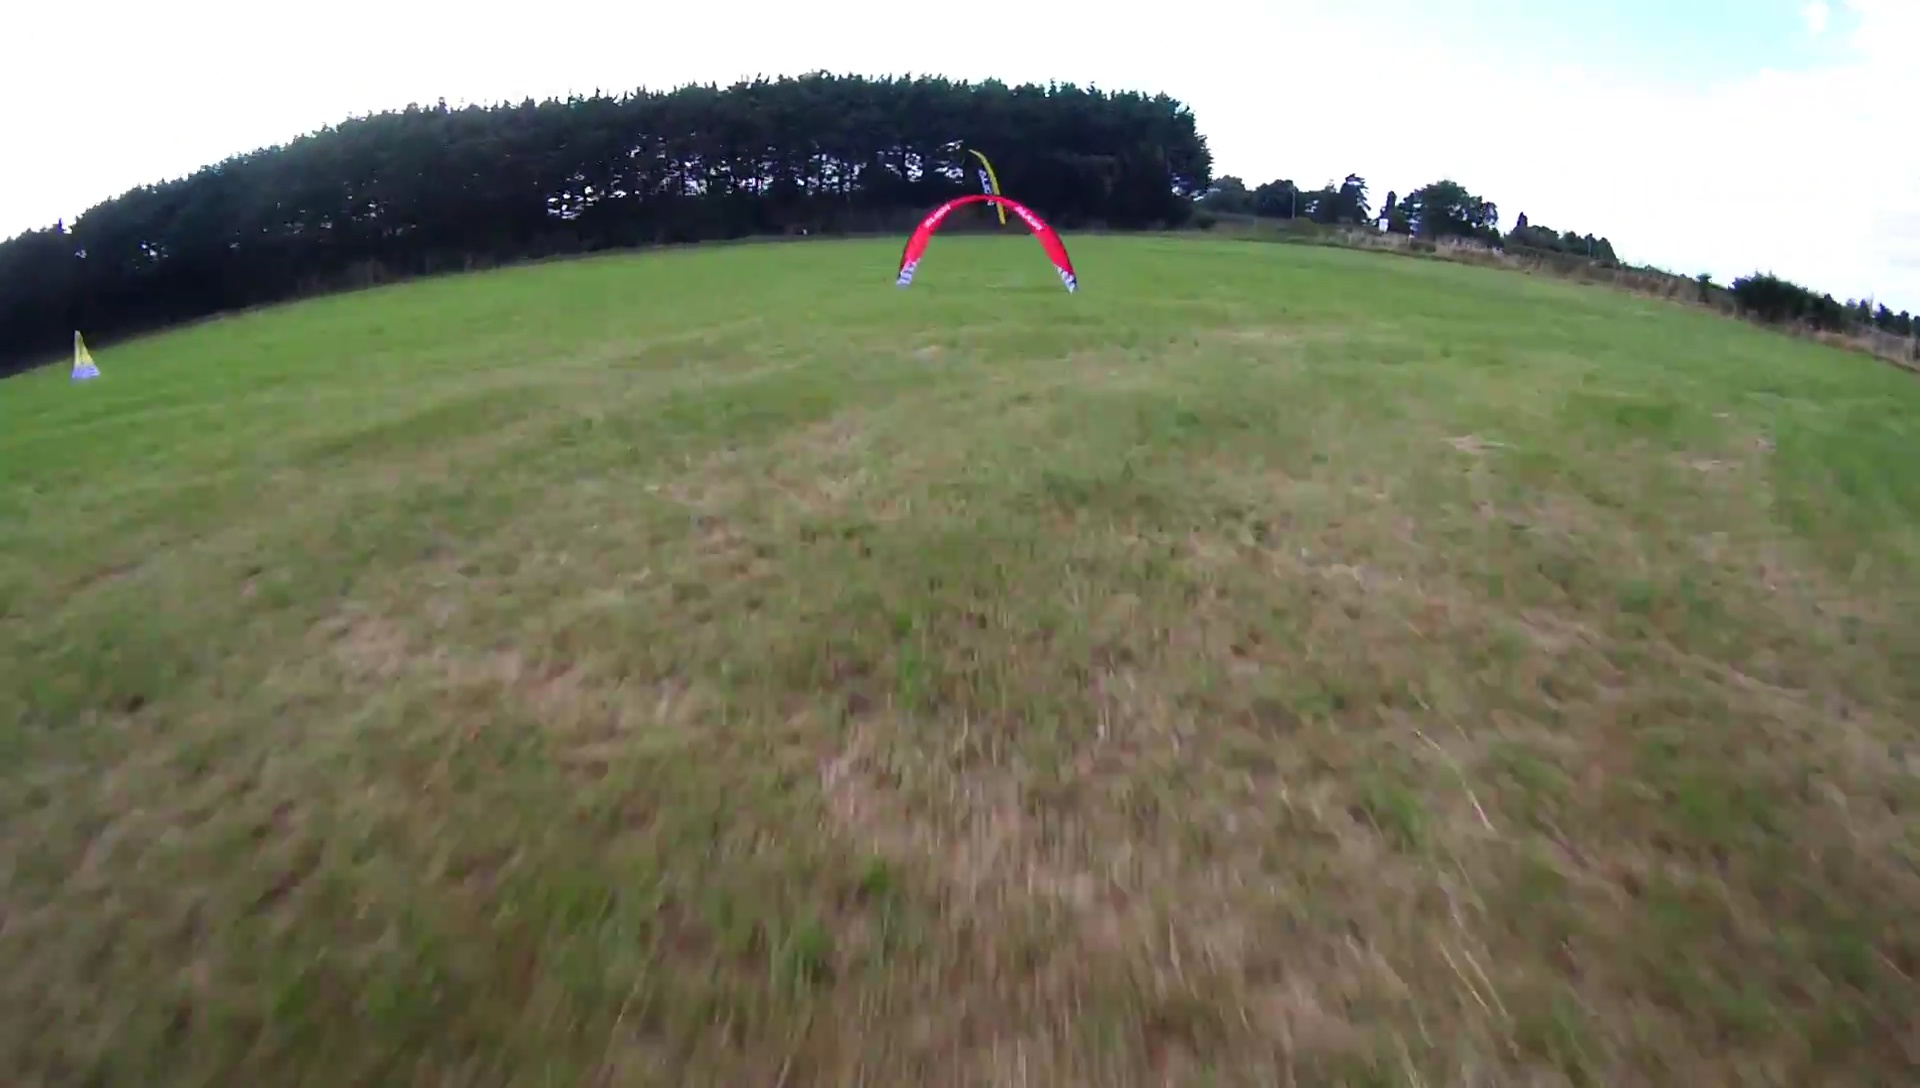gate: (891, 193, 1080, 294)
